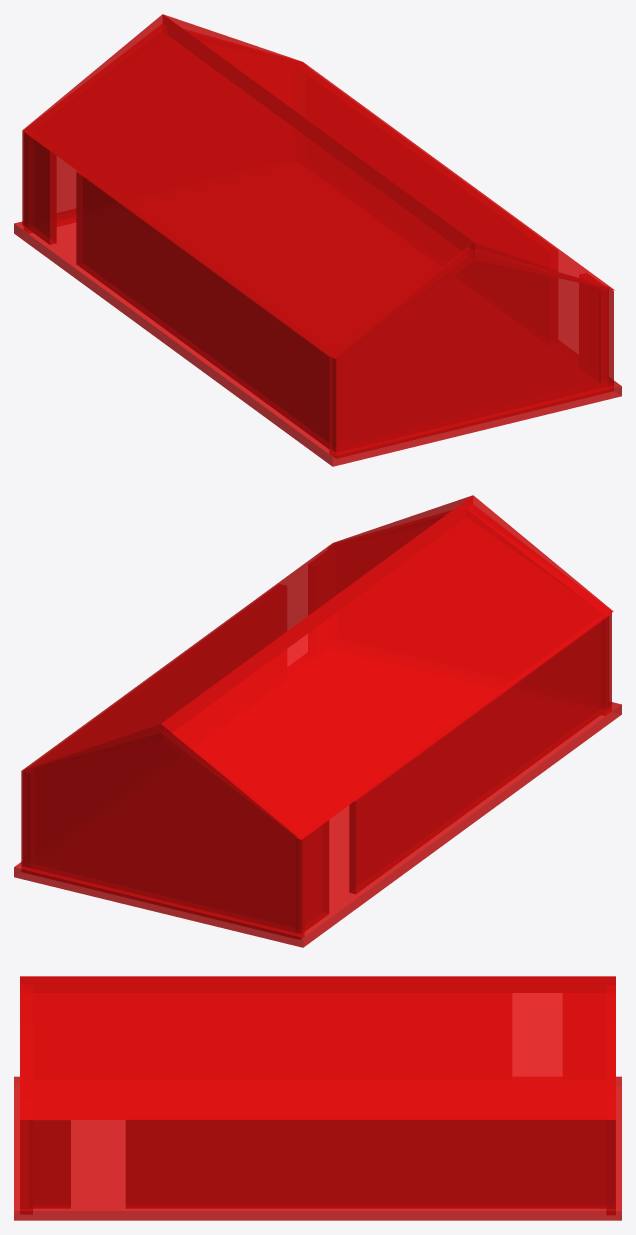
Rendered from SM_Bld_Barracks_01_Collision.fbx.
3 renders of one model, top to bottom at view 1: azimuth 30°, elevation 25°; view 2: azimuth 150°, elevation 25°; view 3: azimuth 270°, elevation 25°, orthographic. The views are drawn at different scales.
Visible parts, largest first — view 1: SM_Bld_Barracks_01_Collision; view 2: SM_Bld_Barracks_01_Collision; view 3: SM_Bld_Barracks_01_Collision.
Part boxes in pixels (x1,y1,x2,y2): SM_Bld_Barracks_01_Collision: [14, 14, 621, 466]; SM_Bld_Barracks_01_Collision: [14, 495, 621, 947]; SM_Bld_Barracks_01_Collision: [14, 976, 621, 1220].
Size of the model in its own units: 706 by 434 by 1348.
